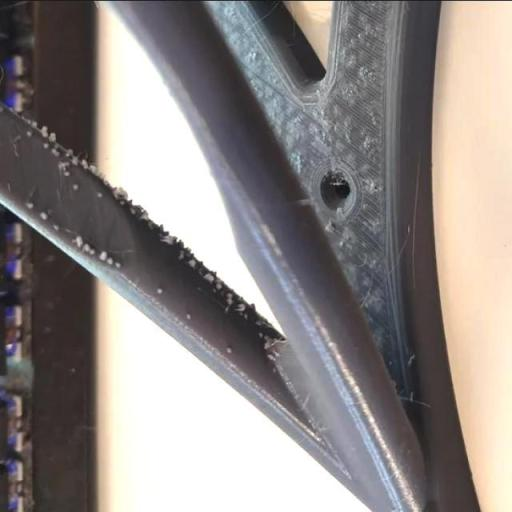blobs: (178, 308, 196, 322), (38, 208, 52, 224), (70, 235, 86, 249), (162, 232, 176, 247), (185, 254, 198, 270), (47, 127, 58, 145), (202, 270, 216, 284), (84, 242, 96, 258), (222, 344, 235, 358), (222, 291, 236, 304), (112, 258, 126, 270), (80, 156, 90, 172), (69, 178, 82, 190), (24, 198, 38, 208), (154, 282, 164, 296), (97, 248, 108, 260), (237, 302, 250, 312), (212, 282, 226, 290), (39, 138, 49, 149), (50, 222, 58, 232), (96, 188, 102, 200), (108, 254, 114, 265)
